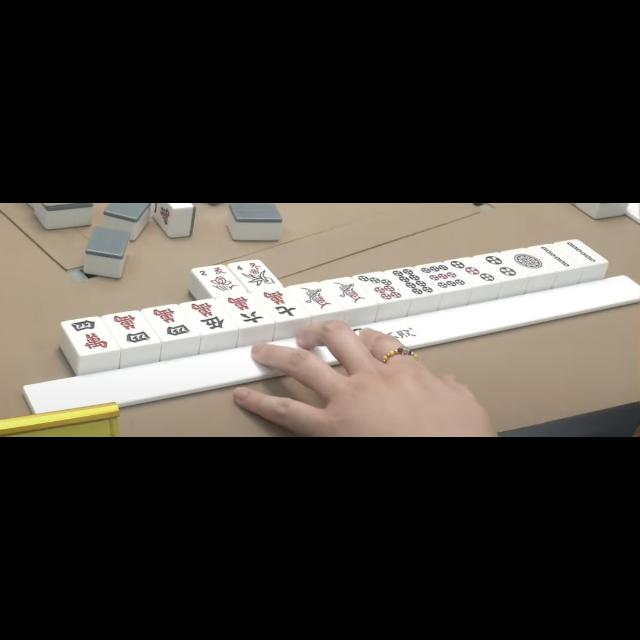b1: (328, 277, 368, 307), (294, 284, 336, 312)
b2: (560, 240, 598, 264), (541, 243, 571, 270)
c4: (108, 311, 154, 347), (67, 318, 111, 354), (150, 305, 192, 341)
c5: (188, 300, 228, 334)
c6: (225, 294, 267, 328)
c7: (259, 290, 301, 322)
d1: (511, 247, 545, 276)
d2: (482, 252, 518, 280)
d3: (450, 258, 496, 286)
d7: (357, 272, 403, 304)
d8: (392, 268, 434, 300)
d9: (422, 262, 466, 292)
s2: (197, 264, 230, 280)
s4: (234, 262, 264, 274)
